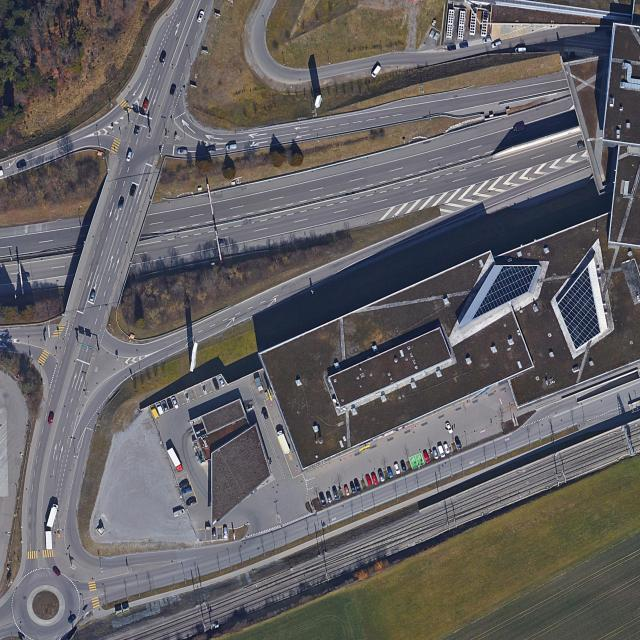large-vehicle: (167, 447, 184, 473), (276, 429, 290, 455), (46, 503, 59, 528), (155, 402, 165, 416), (149, 405, 159, 418)
small-vehicle: (370, 64, 382, 78), (196, 10, 206, 24), (173, 508, 186, 518), (319, 492, 327, 507), (217, 375, 226, 388), (437, 445, 446, 458), (422, 451, 431, 464), (377, 470, 386, 483), (212, 377, 220, 391), (171, 396, 179, 410), (117, 197, 125, 211), (354, 479, 362, 493), (67, 613, 77, 624), (52, 566, 62, 577), (445, 422, 454, 434), (513, 124, 526, 132), (166, 397, 174, 410), (161, 400, 169, 413), (261, 407, 269, 420), (325, 491, 333, 504), (400, 460, 408, 473), (393, 462, 401, 475), (371, 473, 379, 486), (577, 140, 588, 149), (179, 481, 190, 490), (181, 487, 192, 496), (47, 413, 55, 425), (129, 185, 137, 197), (169, 84, 177, 96), (159, 51, 167, 63), (443, 443, 451, 455), (455, 438, 463, 450), (365, 474, 373, 486), (349, 482, 357, 494), (333, 488, 340, 501), (186, 498, 197, 506), (125, 151, 133, 162), (16, 161, 27, 169), (491, 40, 502, 48), (432, 449, 440, 460), (142, 99, 149, 111), (387, 467, 394, 479), (343, 485, 350, 497), (89, 291, 96, 302), (133, 125, 140, 136), (225, 144, 237, 150), (482, 37, 492, 44), (459, 42, 469, 49), (211, 526, 217, 537), (515, 47, 526, 53), (205, 147, 216, 153), (223, 526, 228, 539), (447, 45, 457, 51), (178, 149, 188, 154)
